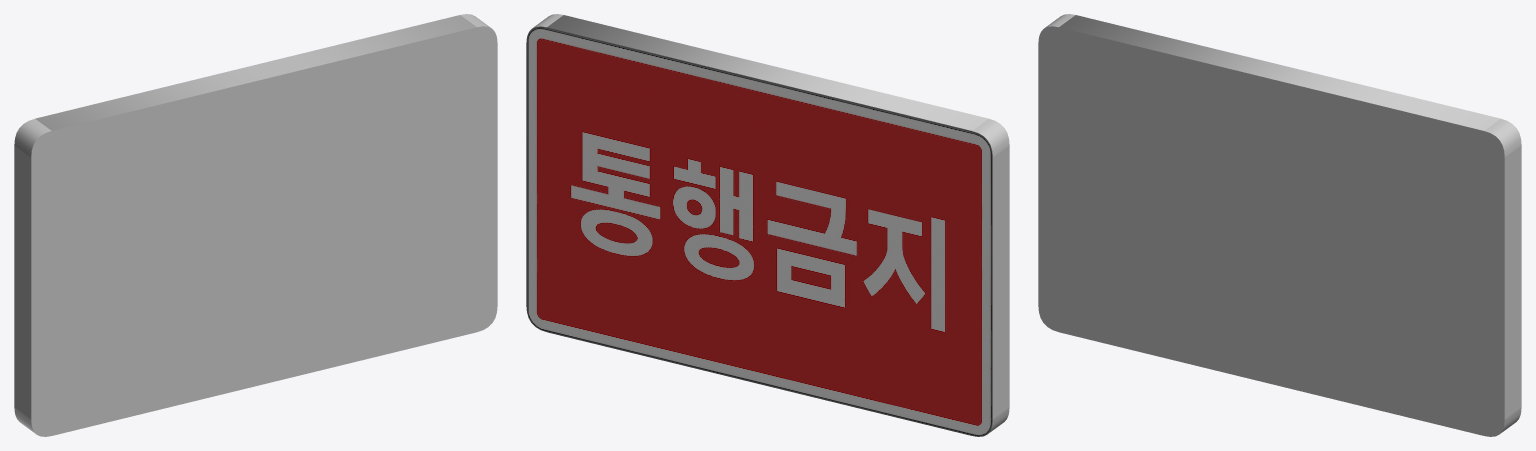
File: StunManHead.fbx
3 views of the same model, side by side, from view 1: azimuth 30°, elevation 25°; view 2: azimuth 150°, elevation 25°; view 3: azimuth 330°, elevation 25° (orthographic).
Visible parts, largest first — view 1: Head; view 2: Head; view 3: Head.
Part boxes in pixels (bbox=[...]): Head: bbox=[14, 14, 497, 436]; Head: bbox=[526, 14, 1009, 436]; Head: bbox=[1038, 14, 1521, 436].
Size of the model in its own units: 36.37 by 22.73 by 2.27.
